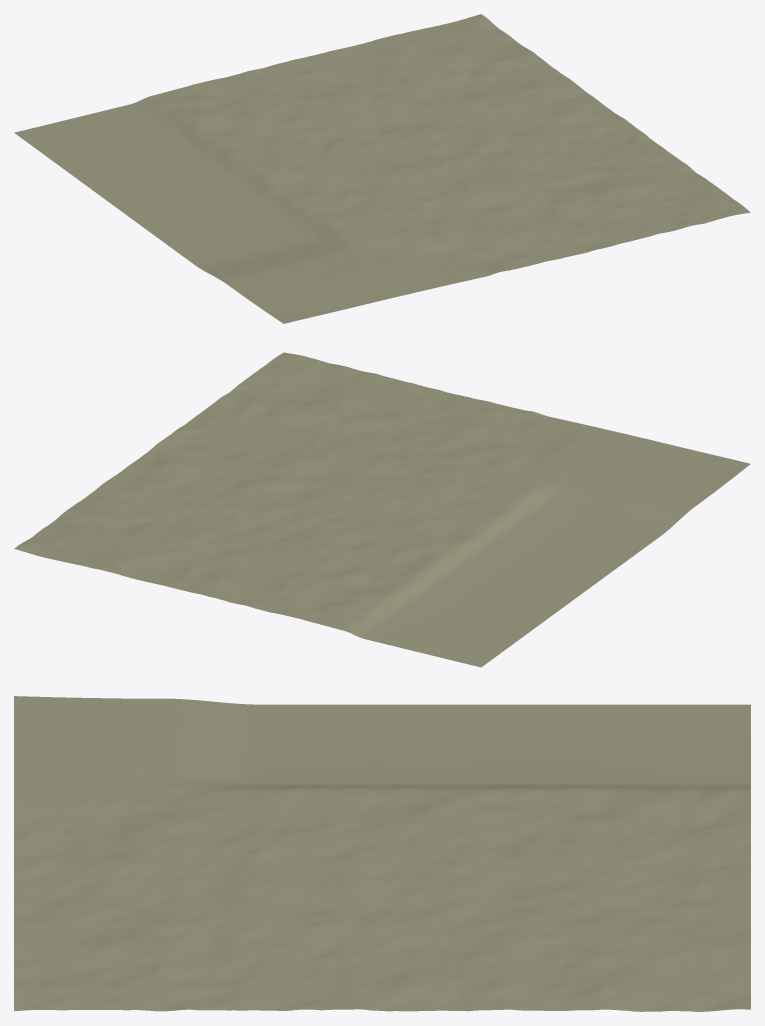
Rendered from SM_VB_CityTerrain_11_3.fbx.
The picture shows the model from 3 angles, top to bottom: view 1: azimuth 30°, elevation 25°; view 2: azimuth 150°, elevation 25°; view 3: azimuth 270°, elevation 25°; orthographic projection. The views are drawn at different scales.
Parts seen in each view (by area): view 1: SM_VB_CityTerrain_11_3; view 2: SM_VB_CityTerrain_11_3; view 3: SM_VB_CityTerrain_11_3.
Boxes of the visible parts, left/top/right/bottom form: SM_VB_CityTerrain_11_3: left=14, top=14, right=750, bottom=323; SM_VB_CityTerrain_11_3: left=14, top=352, right=750, bottom=667; SM_VB_CityTerrain_11_3: left=14, top=696, right=750, bottom=1011.
Size of the model in its own units: 600 by 7.63 by 600.
